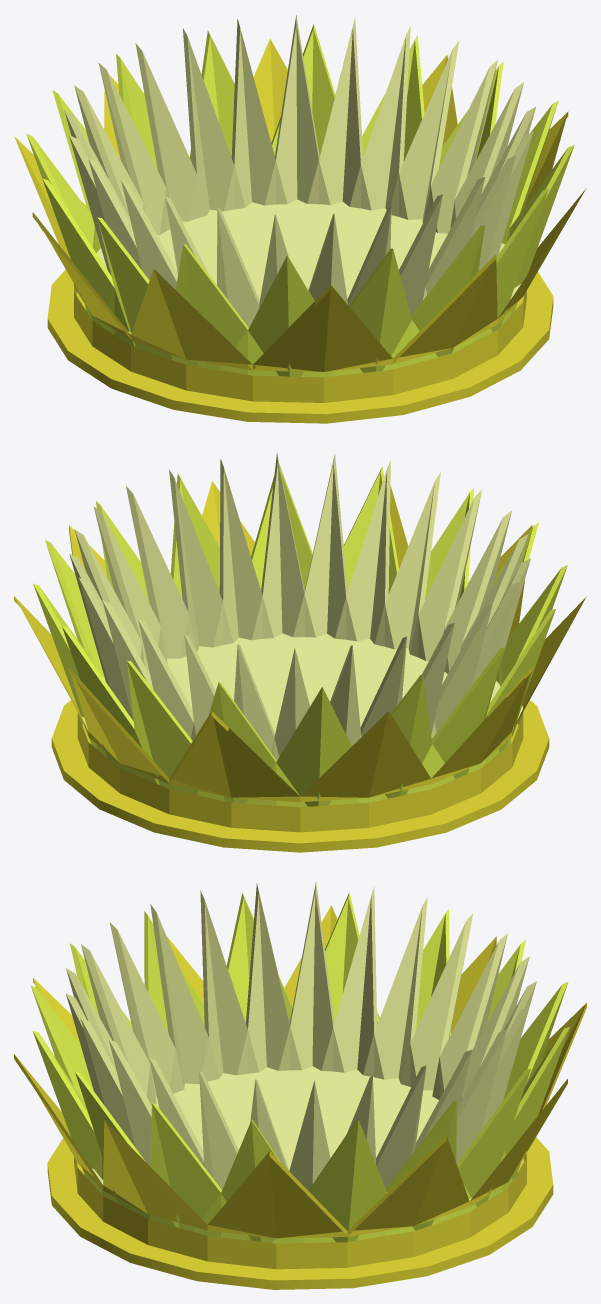
File: portal_abrir_000036.obj
The picture shows the model from 3 angles, top to bottom: view 1: azimuth 30°, elevation 25°; view 2: azimuth 150°, elevation 25°; view 3: azimuth 270°, elevation 25°; orthographic projection. The views are drawn at different scales.
Visible parts, largest first — view 1: Cylinder.001, pCylinder1, Cylinder; view 2: Cylinder.001, pCylinder1, Cylinder; view 3: Cylinder.001, pCylinder1, Cylinder.
Boxes of the visible parts, x1,y1,x2,y2 form: Cylinder.001: (64, 15, 536, 327); pCylinder1: (14, 38, 586, 423); Cylinder: (26, 24, 574, 377); Cylinder.001: (69, 453, 530, 760); pCylinder1: (14, 481, 586, 852); Cylinder: (33, 464, 567, 807); Cylinder.001: (66, 882, 536, 1190); pCylinder1: (14, 905, 586, 1289); Cylinder: (30, 892, 569, 1243).
Size of the model in its own units: 6.54 by 2.51 by 6.43.
Materials: 4 (4 with a texture image).
